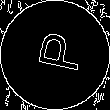P_W: (26, 31, 84, 79)
